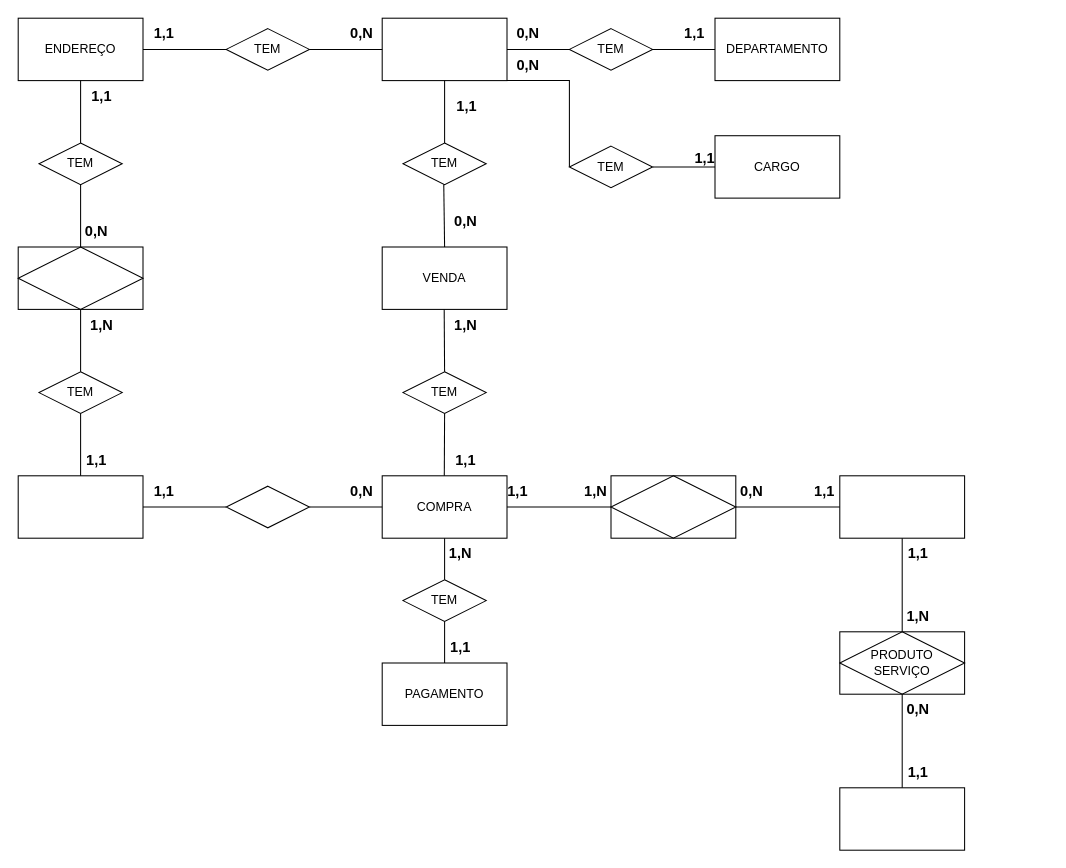
Image size: 1066x868. Some labels were removed from this diagram. The shapes that lost their labels are listed below. From the top down, each one's centre as x and y in pixels, then its label:
the point at 444,49: FUNCIONARIO
the point at 80,277: CLIENTE ENDEREÇO
the point at 80,506: CLIENTE
the point at 267,506: FAZ
the point at 673,506: COMPRA SERVIÇO
the point at 902,506: SERVIÇO
the point at 902,818: PRODUTO
